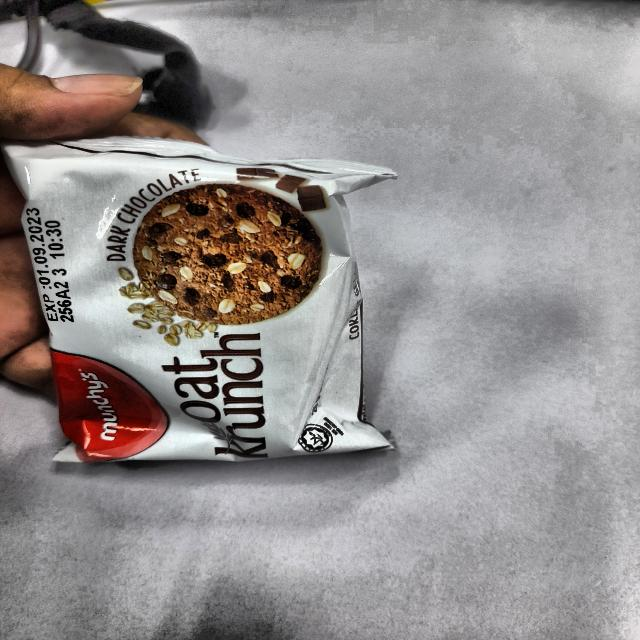Plastic: (0, 146, 406, 468)
